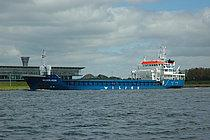Ship: (20, 43, 190, 94)
